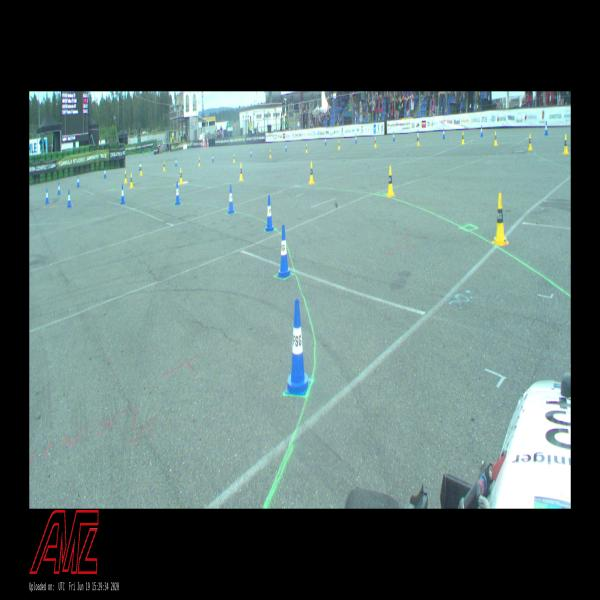blue_cone: (285, 298, 310, 395), (277, 225, 292, 278), (265, 195, 275, 232), (228, 184, 235, 214), (175, 181, 181, 205), (120, 185, 126, 204), (68, 190, 72, 208), (57, 182, 61, 195), (46, 189, 49, 204), (545, 121, 548, 135), (77, 176, 80, 187), (104, 168, 107, 178), (481, 125, 483, 137), (443, 128, 445, 139), (139, 161, 141, 171), (355, 134, 357, 144), (393, 132, 395, 142), (417, 130, 419, 140), (175, 158, 177, 166)
yellow_cone: (493, 193, 508, 246), (386, 166, 395, 197), (563, 134, 569, 154), (309, 162, 314, 184), (179, 168, 184, 185), (239, 163, 243, 181), (528, 134, 532, 150), (494, 131, 498, 146), (124, 170, 128, 183), (461, 132, 465, 145), (130, 173, 133, 188), (416, 134, 419, 146), (140, 164, 143, 175), (163, 160, 166, 171), (374, 138, 377, 148), (338, 140, 340, 150), (270, 149, 272, 158), (233, 154, 235, 162), (306, 144, 308, 152), (199, 157, 200, 166)
